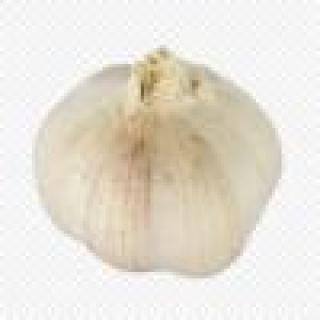Bawang Putih: (24, 46, 299, 276)
